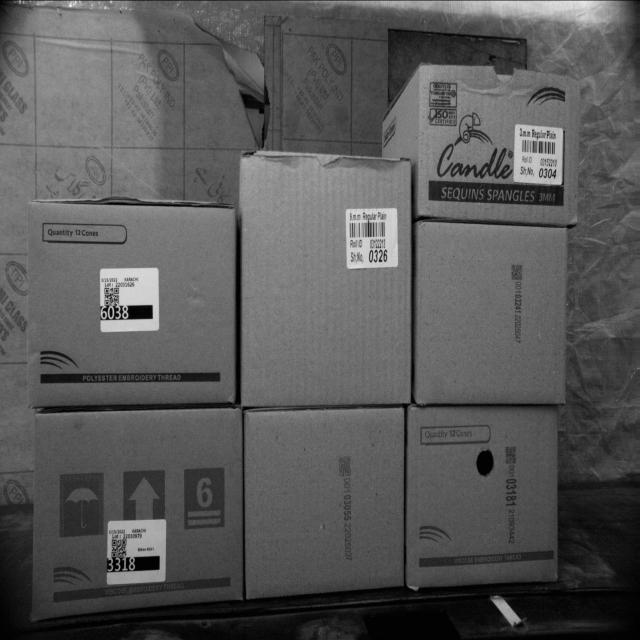cardboxes: (31, 412, 244, 619), (25, 198, 239, 404), (240, 158, 408, 406), (242, 408, 408, 596), (413, 222, 567, 404), (408, 403, 558, 584), (419, 58, 573, 226), (624, 261, 630, 263)
